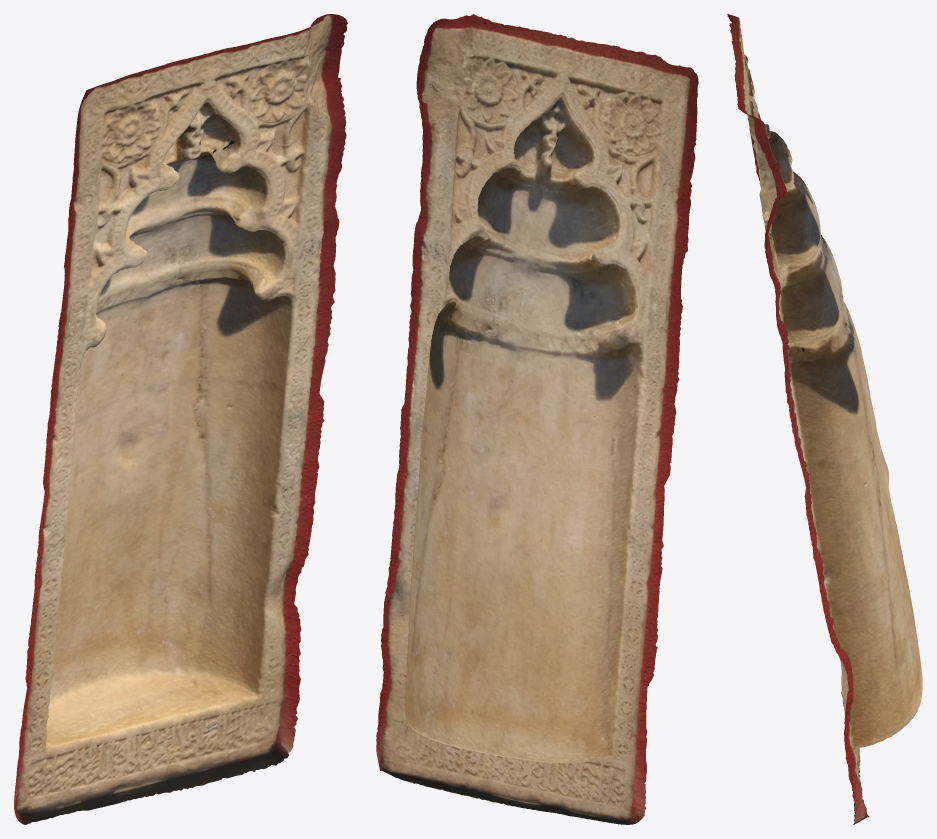
The model's file is preview.glb.
3 renders of one model, left to right at view 1: azimuth 30°, elevation 25°; view 2: azimuth 150°, elevation 25°; view 3: azimuth 270°, elevation 25°, orthographic. The views are drawn at different scales.
Parts seen in each view (by area): view 1: Object_2; view 2: Object_2; view 3: Object_2.
Part boxes in pixels (box(x1,y1,x2,y2)): Object_2: box(14, 14, 347, 824); Object_2: box(376, 14, 698, 824); Object_2: box(727, 14, 922, 824).
Bounding box in the file's own units: 1.17 × 3.07 × 0.7676.
Materials: 1 (1 with a texture image).
